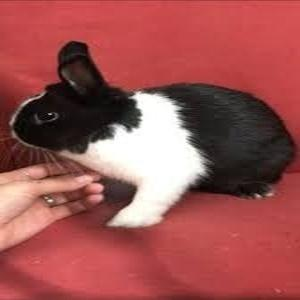rabbit: (11, 41, 294, 227)
